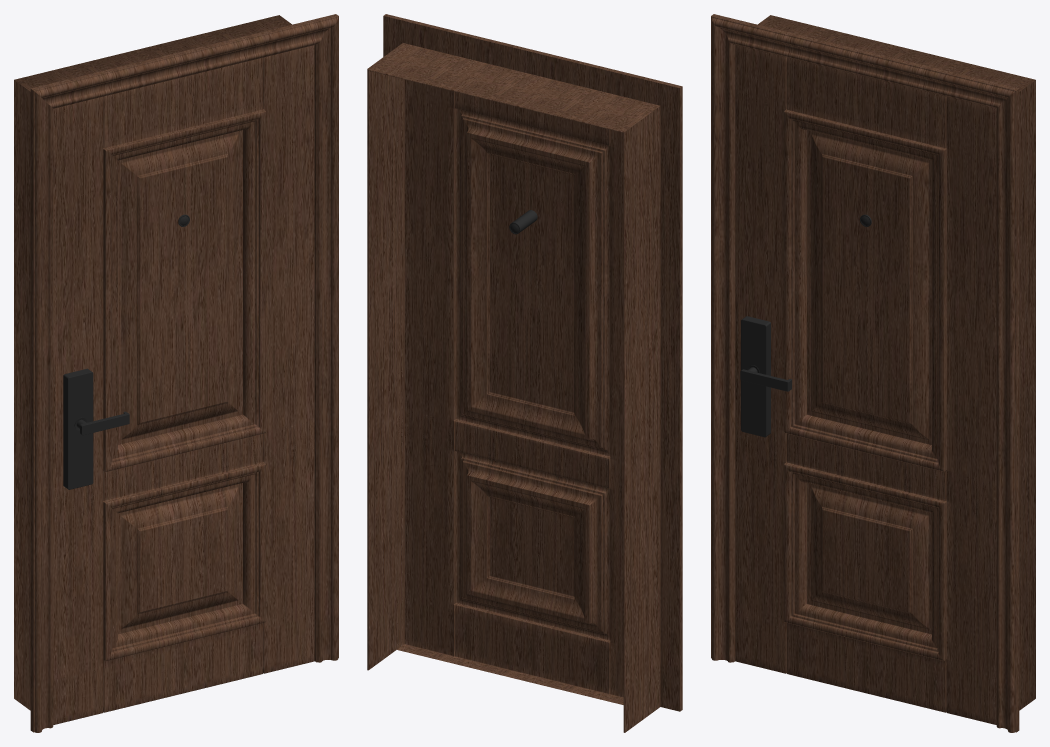
File: final front door.fbx
3 renders of one model, left to right at view 1: azimuth 30°, elevation 25°; view 2: azimuth 150°, elevation 25°; view 3: azimuth 330°, elevation 25°, orthographic. The views are drawn at different scales.
Visible parts, largest first — view 1: front door2, front foor1; view 2: front door2, front foor1; view 3: front door2, front foor1.
Boxes of the visible parts, x1=… form: front door2: x1=53, y1=45, x2=314, y2=724; front foor1: x1=14, y1=14, x2=338, y2=732; front door2: x1=397, y1=77, x2=623, y2=704; front foor1: x1=367, y1=14, x2=682, y2=732; front door2: x1=735, y1=45, x2=996, y2=724; front foor1: x1=711, y1=14, x2=1035, y2=732.
Bounding box in the file's own units: 45.98 × 92.31 × 12.78.
5 materials, 2 textured.
